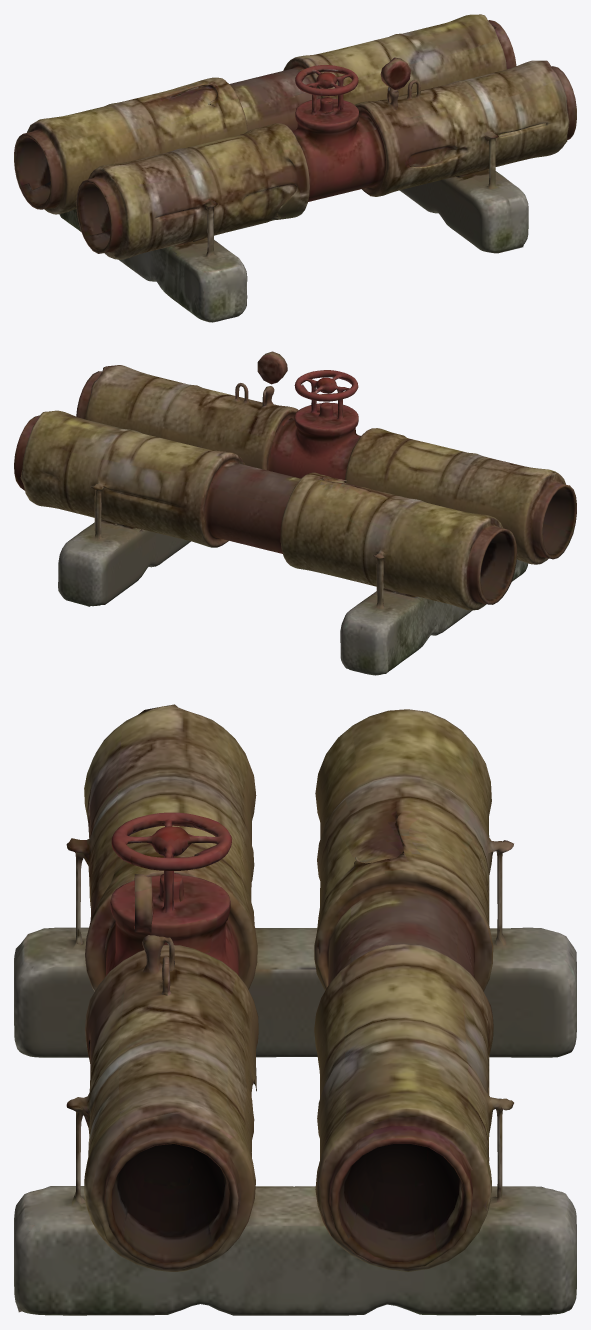
The model's file is heating_pipes.glb.
3 renders of one model, top to bottom at view 1: azimuth 30°, elevation 25°; view 2: azimuth 150°, elevation 25°; view 3: azimuth 270°, elevation 25°, orthographic. The views are drawn at different scales.
Visible parts, largest first — view 1: heating_pipes; view 2: heating_pipes; view 3: heating_pipes.
Boxes of the visible parts, x1,y1,x2,y2 form: heating_pipes: [14, 14, 576, 322]; heating_pipes: [14, 351, 576, 675]; heating_pipes: [14, 704, 576, 1315].
Size of the model in its own units: 3.2 by 1.23 by 1.79.
1 material, 1 textured.
